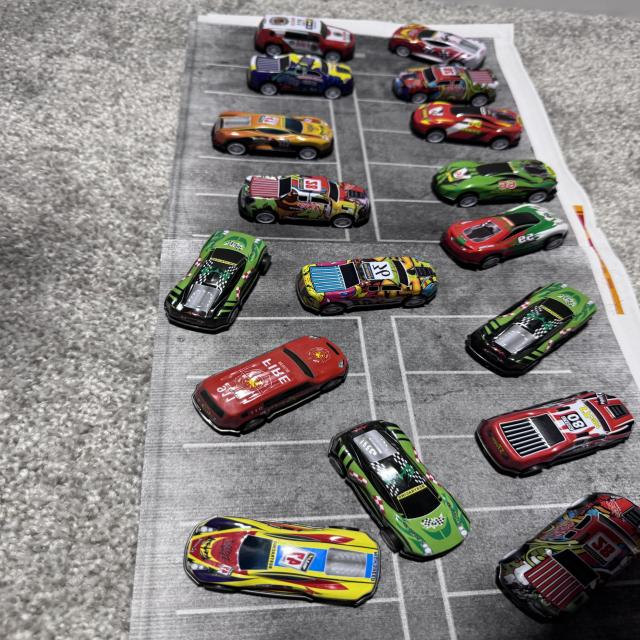car: (170, 506, 390, 618), (465, 508, 640, 638), (316, 412, 470, 550), (180, 338, 371, 434), (143, 227, 310, 335), (272, 244, 456, 322), (461, 394, 621, 480), (466, 292, 600, 382), (177, 103, 340, 165), (363, 156, 574, 201), (435, 192, 569, 262), (362, 63, 510, 119), (357, 14, 513, 56), (238, 58, 372, 99), (208, 168, 354, 205), (419, 106, 545, 148), (248, 16, 364, 52)
